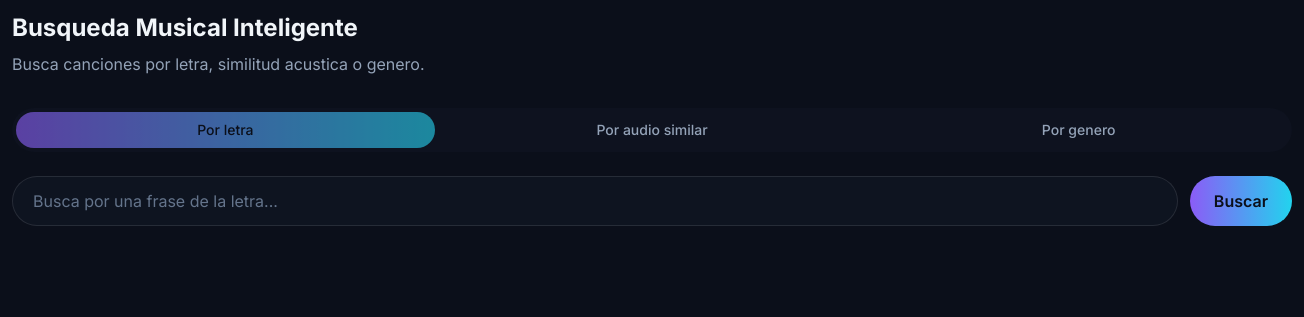
MusicSearchPage › shows the listening state while recording
The width and height of the screenshot is (1304, 317).
Step 1. Click the tab "Por audio similar" → (652, 130), box [443,112,861,148]
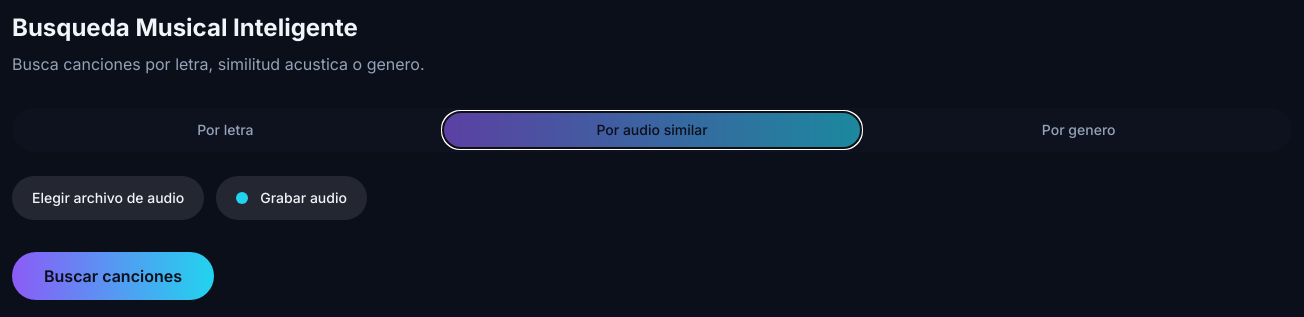
Step 2. Click the button "Grabar audio" → (292, 198), box [216,176,367,220]
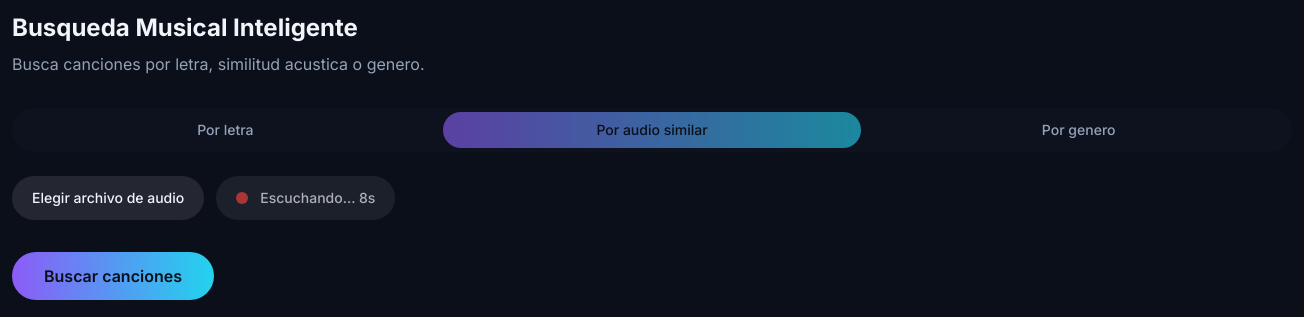
Result: the button "Escuchando... 8s" is shown at [216,176,396,220]
